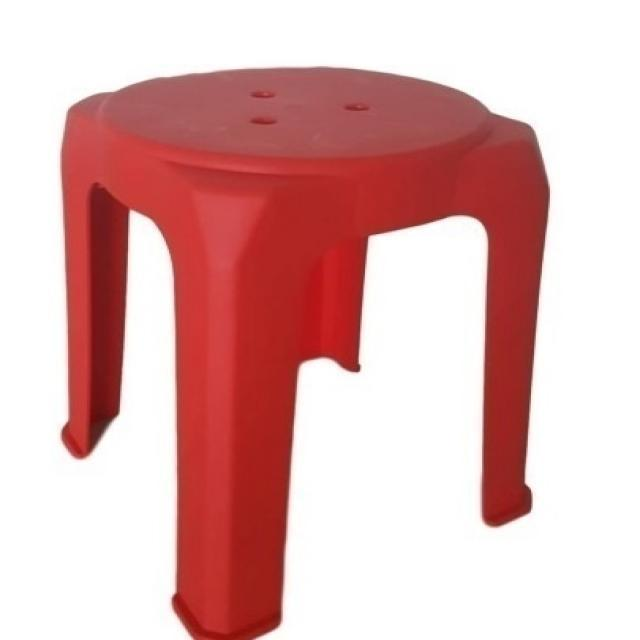chair: (53, 62, 554, 640)
